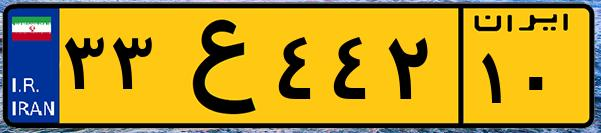0: (525, 38, 570, 115)
1: (475, 38, 525, 113)
2: (385, 28, 445, 110)
3: (57, 26, 110, 100), (110, 28, 158, 98)
4: (270, 28, 330, 110), (330, 28, 385, 110)
ع: (158, 12, 270, 120)
